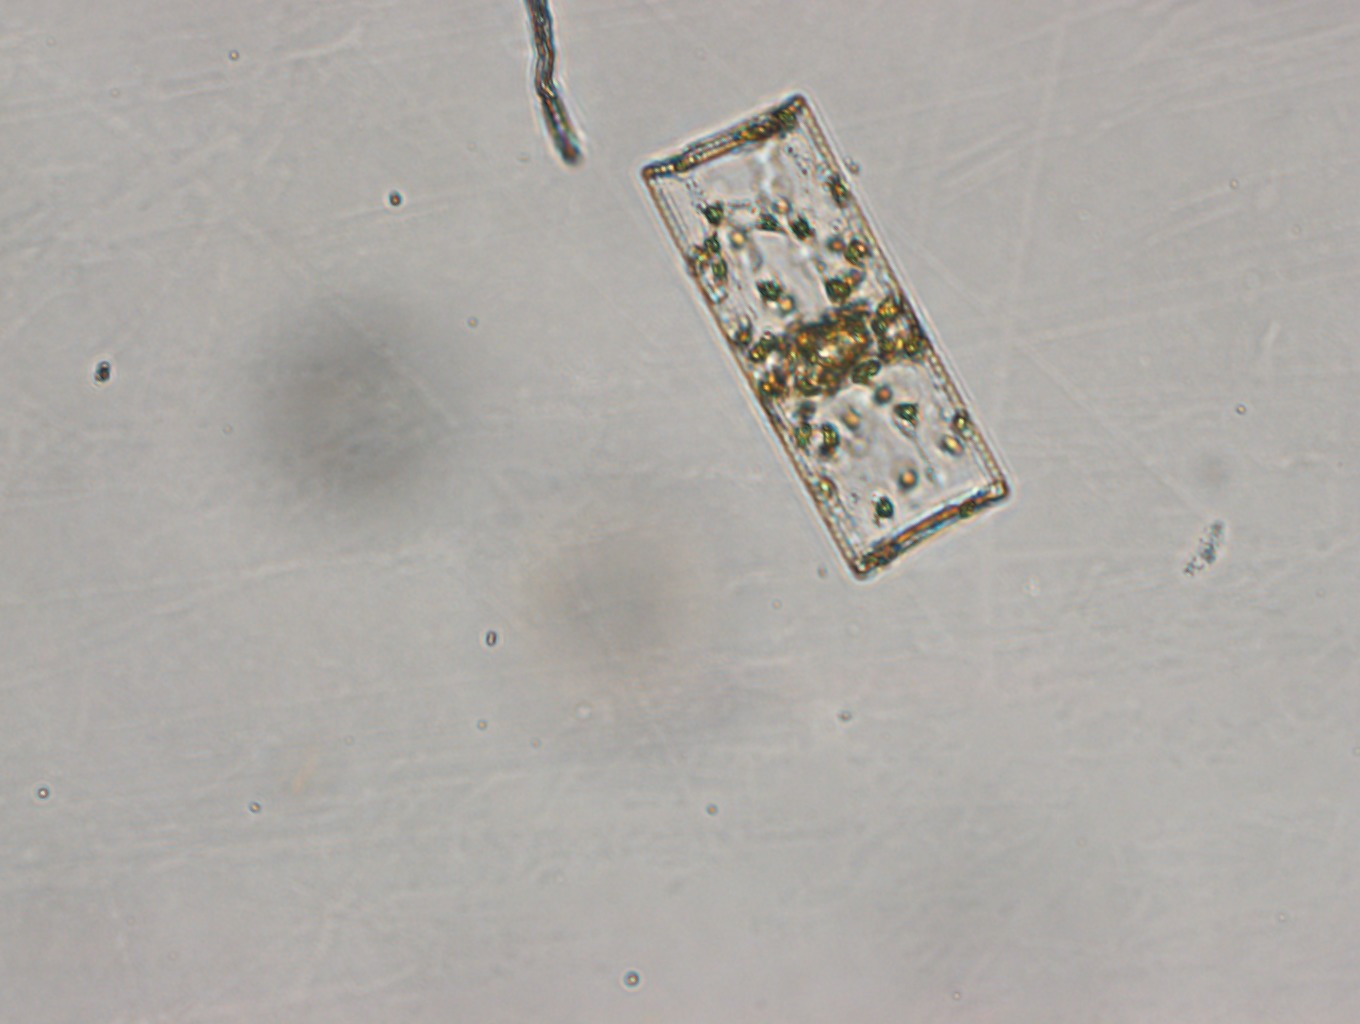guinardia flaccida: (639, 93, 1013, 580)
